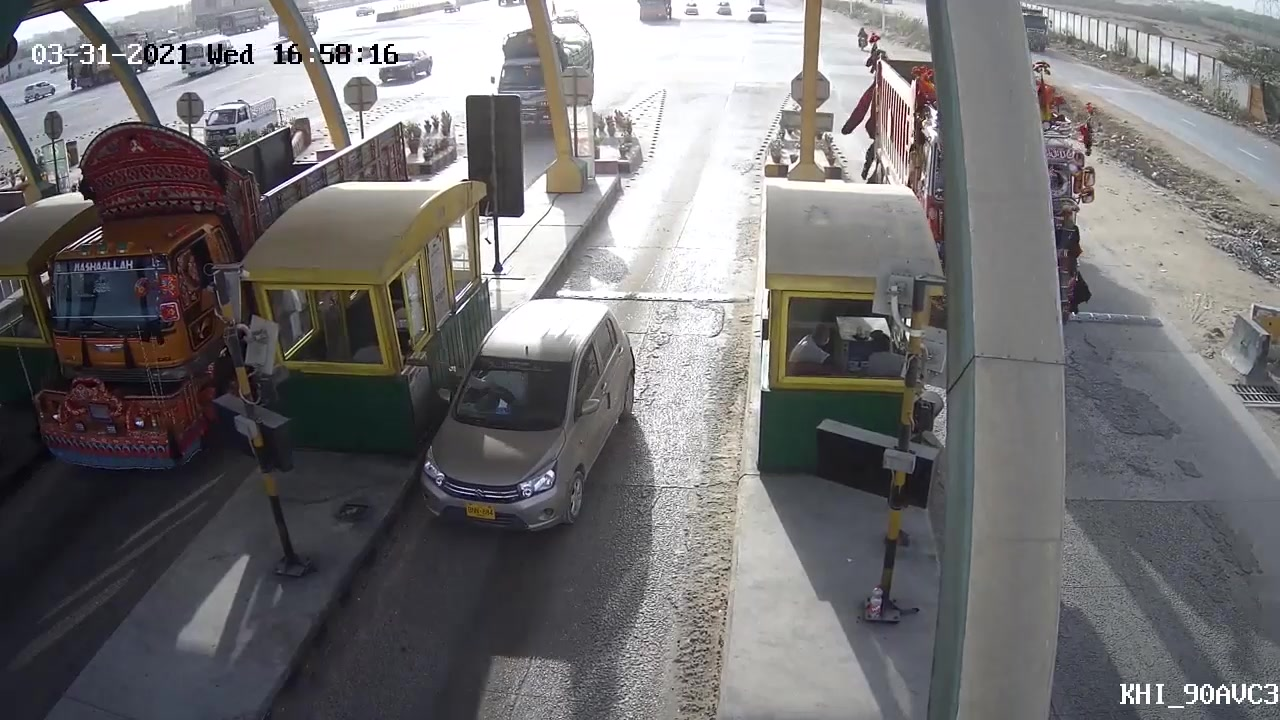F1: (413, 295, 646, 542)
